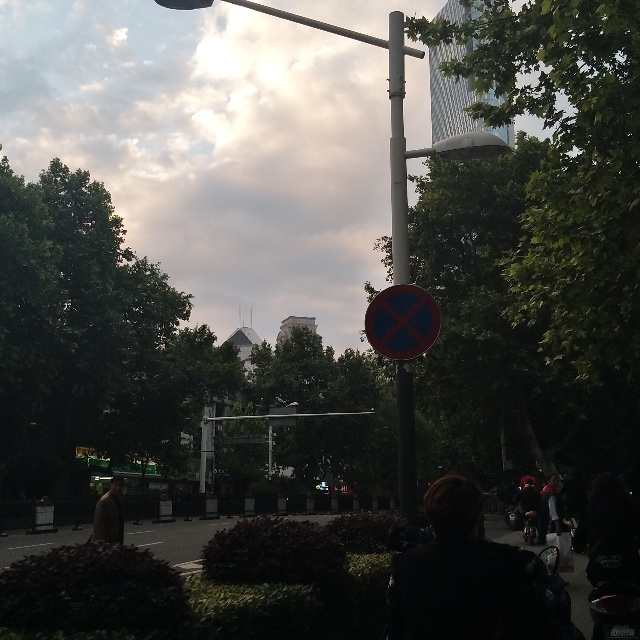stop: (366, 290, 435, 354)
